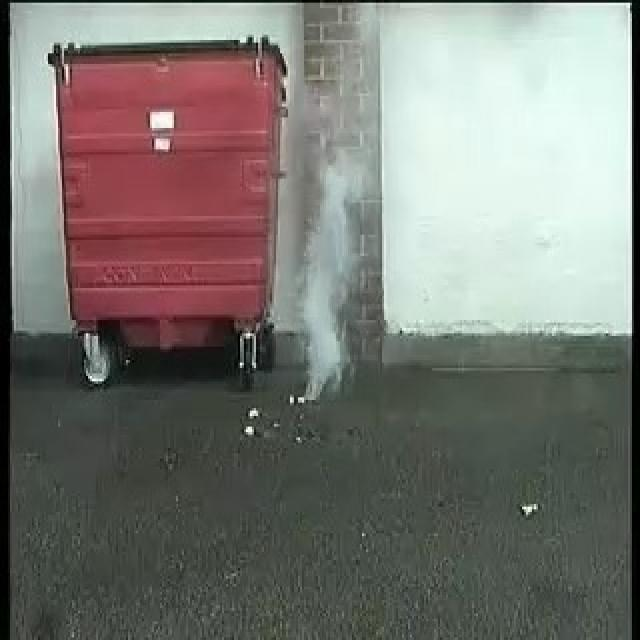smoke: (290, 88, 384, 390)
